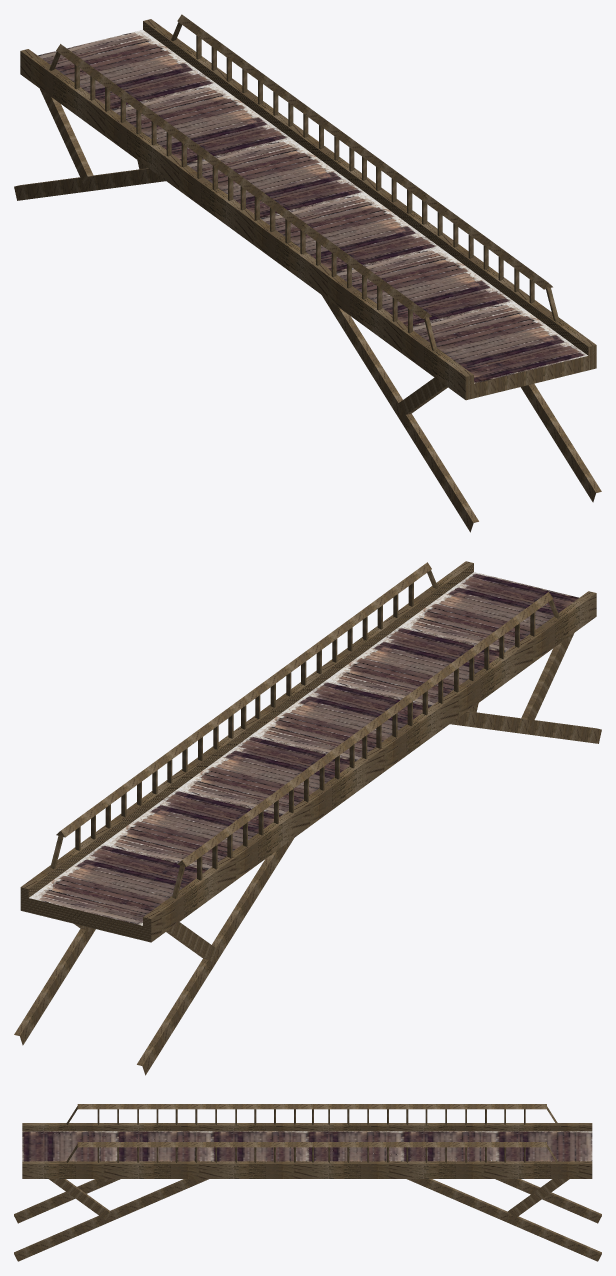
File: desertbridge.gltf
3 renders of one model, top to bottom at view 1: azimuth 30°, elevation 25°; view 2: azimuth 150°, elevation 25°; view 3: azimuth 270°, elevation 25°, orthographic. The views are drawn at different scales.
Parts seen in each view (by area): view 1: desertbridge_atomic0; view 2: desertbridge_atomic0; view 3: desertbridge_atomic0.
Boxes of the visible parts, x1,y1,x2,y2 form: desertbridge_atomic0: (14,14,601,532); desertbridge_atomic0: (14,561,601,1075); desertbridge_atomic0: (14,1104,601,1261).
Size of the model in its own units: 51.09 by 69.2 by 311.
2 materials, 2 textured.
